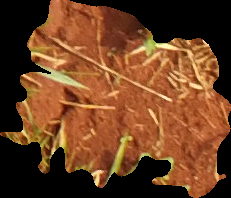soil: (4, 4, 227, 196)
